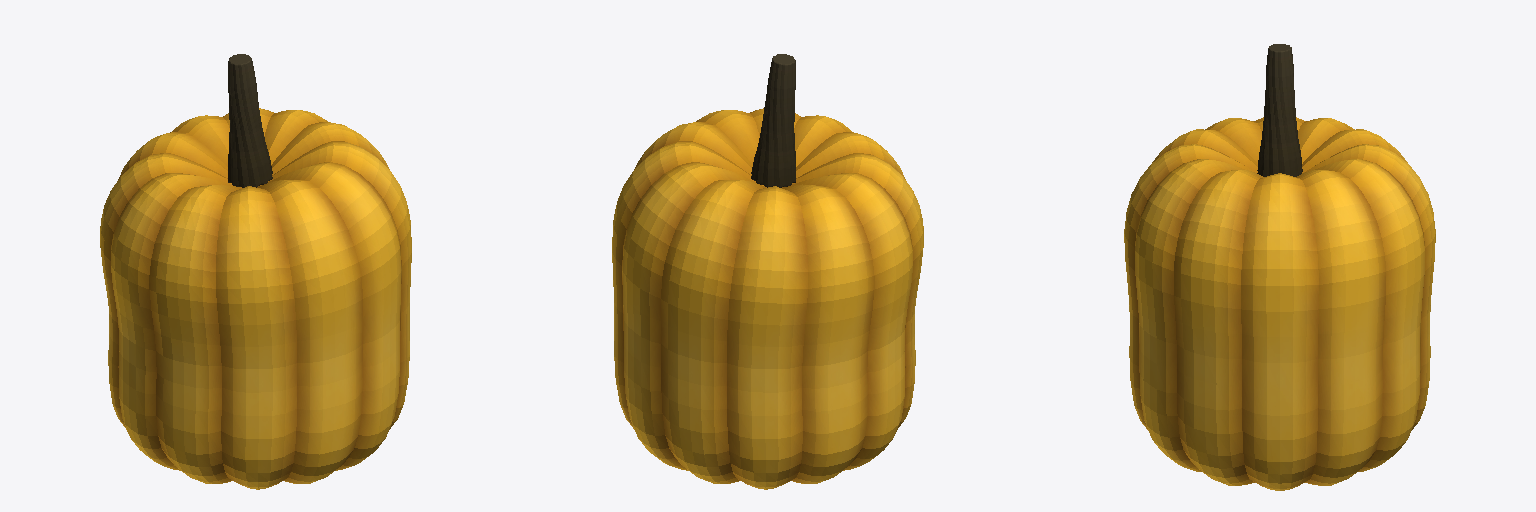
3 renders of one model, left to right at view 1: azimuth 30°, elevation 25°; view 2: azimuth 150°, elevation 25°; view 3: azimuth 270°, elevation 25°, orthographic.
Parts seen in each view (by area): view 1: pumpkin_small_001; view 2: pumpkin_small_001; view 3: pumpkin_small_001.
Boxes of the visible parts, box(x1,y1,x2,y2) form: pumpkin_small_001: box(100, 54, 411, 489); pumpkin_small_001: box(612, 54, 923, 489); pumpkin_small_001: box(1124, 44, 1435, 490).
Bounding box in the file's own units: 3.48 × 4.96 × 3.47.
1 materials, 1 textured.